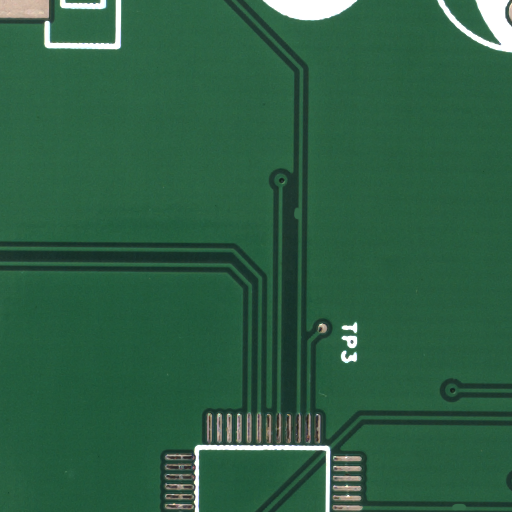Spur: (460, 507, 483, 512), (296, 212, 303, 227)
